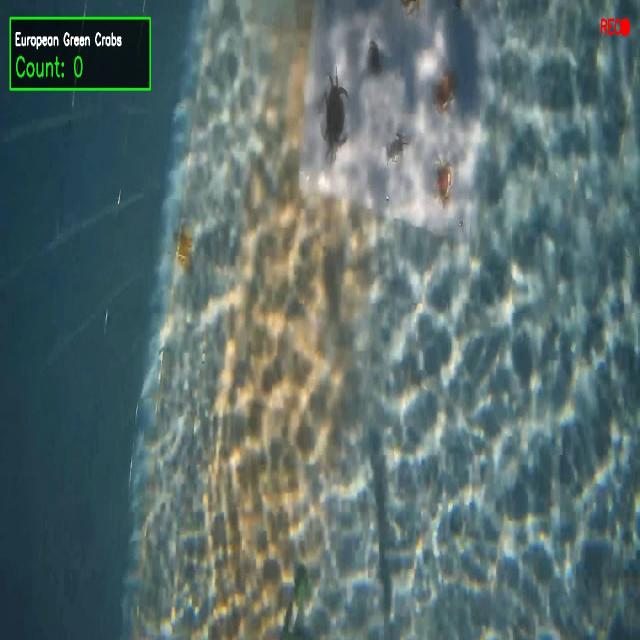European_Green_Crab: (319, 68, 351, 168), (382, 127, 412, 174)
